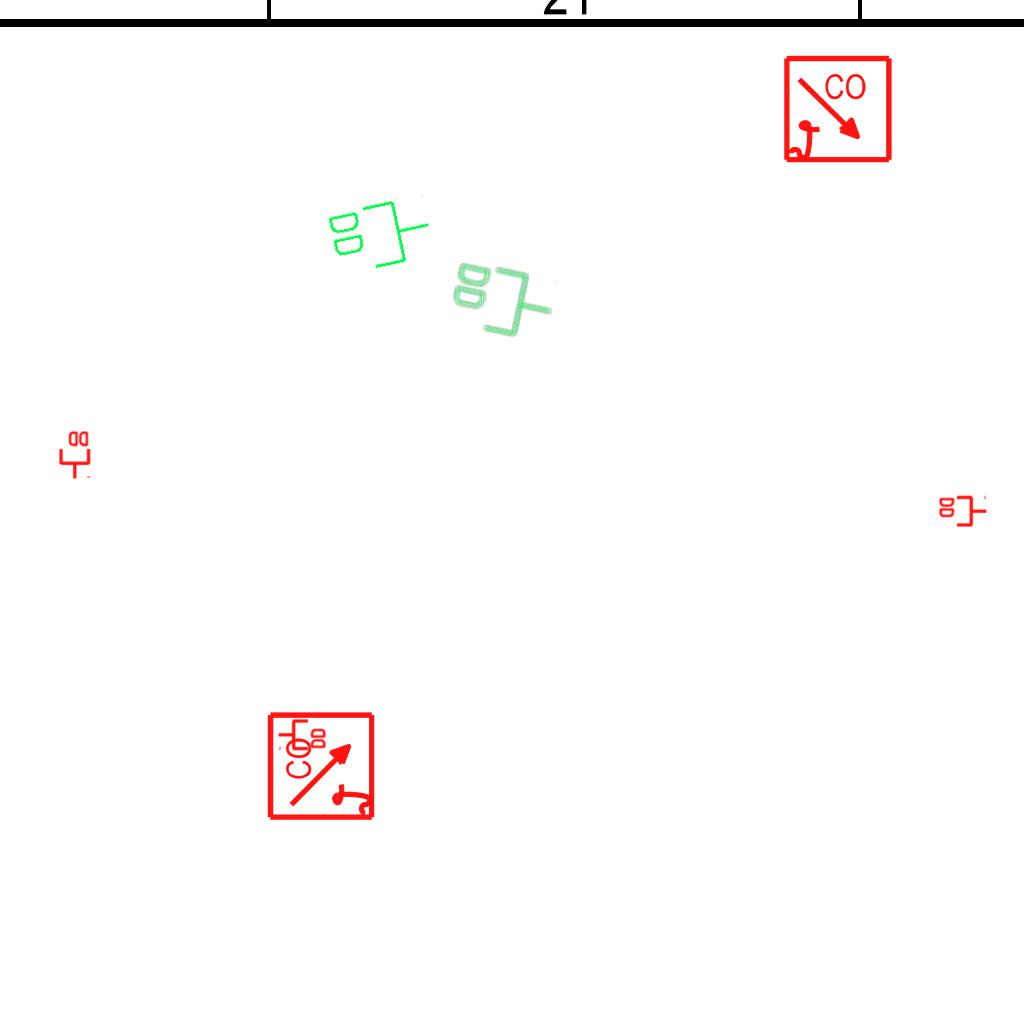Datenanschluss_zweifach: (322, 190, 439, 279), (444, 256, 561, 345), (57, 429, 91, 480), (937, 495, 988, 529), (277, 717, 328, 751)
ROA_Rauchmelder_optisch_mit_Signalgeber_(Sockelsirene): (266, 709, 379, 822), (782, 54, 895, 167)
